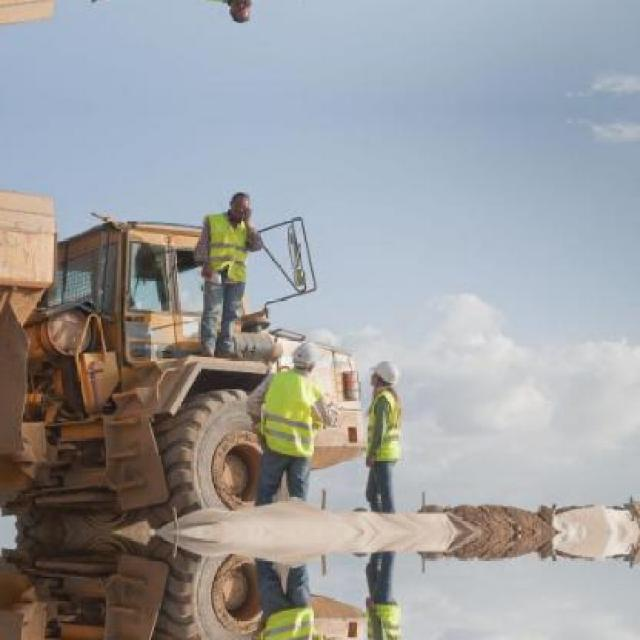Reflective-Jacket: (255, 369, 328, 465), (196, 212, 262, 290), (357, 388, 412, 470)
Safety-Helmet: (366, 355, 406, 391), (285, 338, 323, 374), (218, 184, 258, 218)
